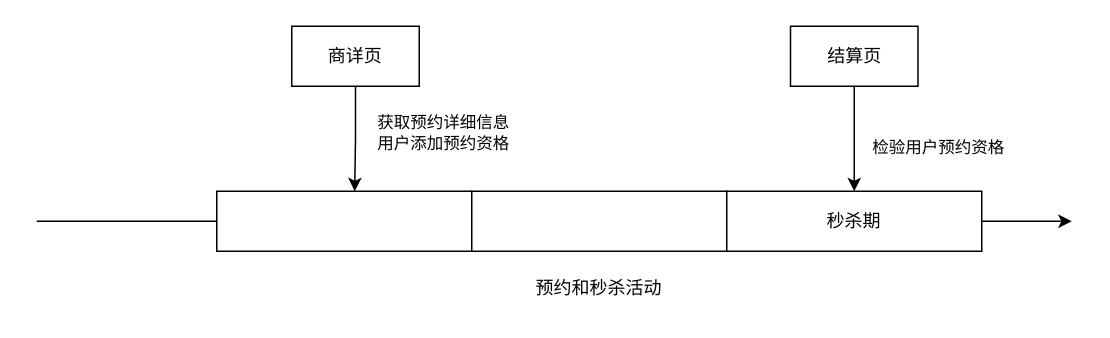
Some shapes in this 1110 by 338 pixel diagram are drawn without their labels. Each missing label, with the centre of its shape:
等待秒杀（可选）: the point at 598,220
预约期: the point at 343,220
